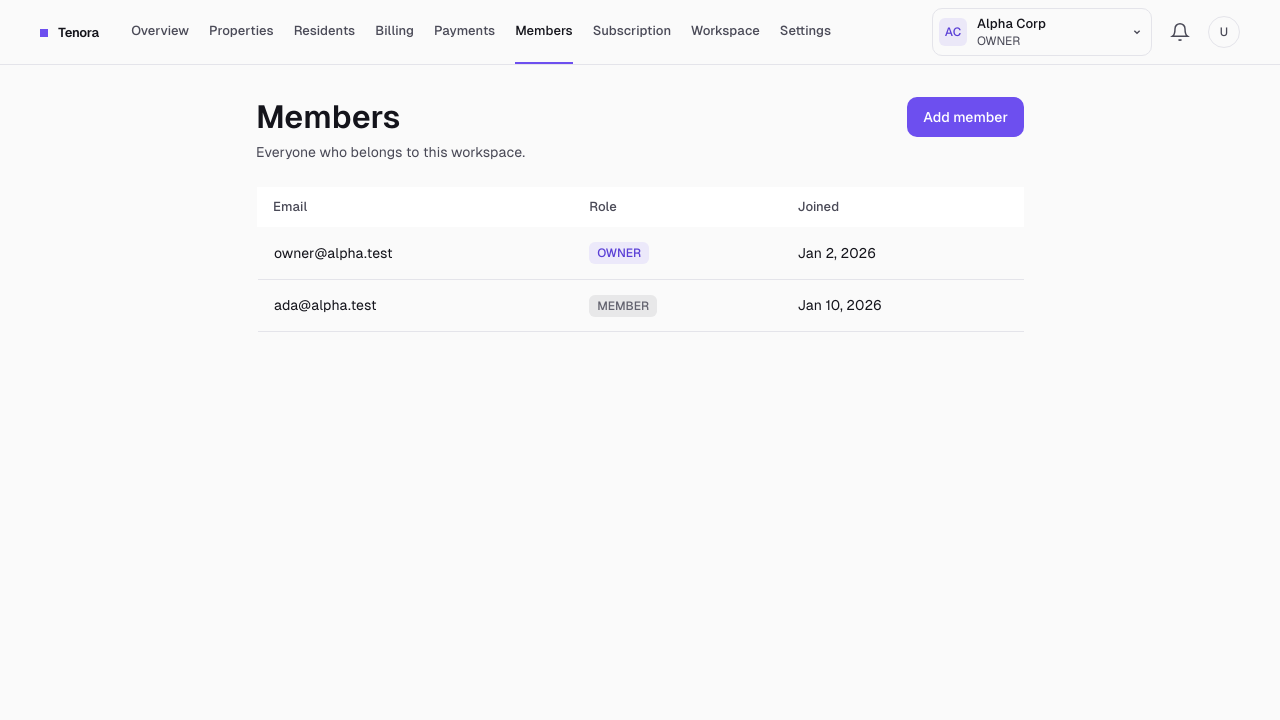
Scenario: MembersPage — add member › shows a duplicate error inline on the email field and keeps the modal open
This screenshot has width=1280, height=720.
Click the button "Add member".
click(966, 117)  # box [907,97,1024,137]
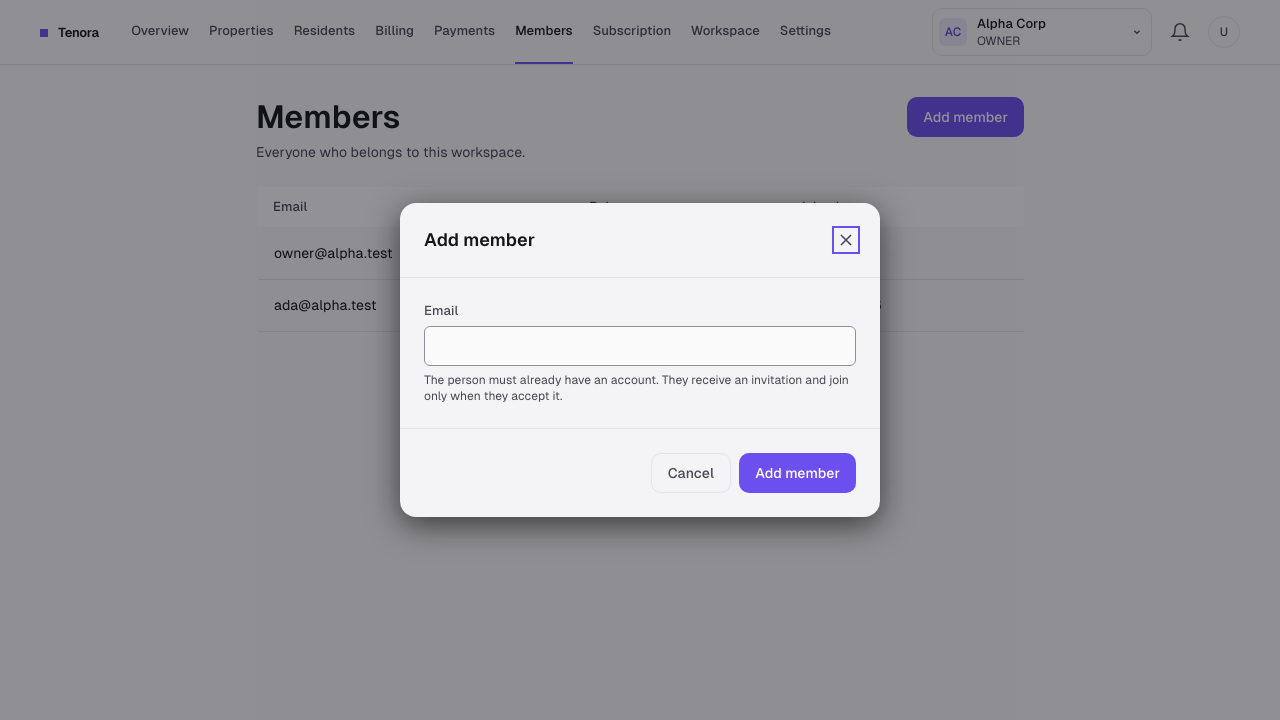
Type "ada@alpha.test" into the field labelled "Email".
click(640, 346); type("ada@alpha.test")  # box [424,326,856,366]
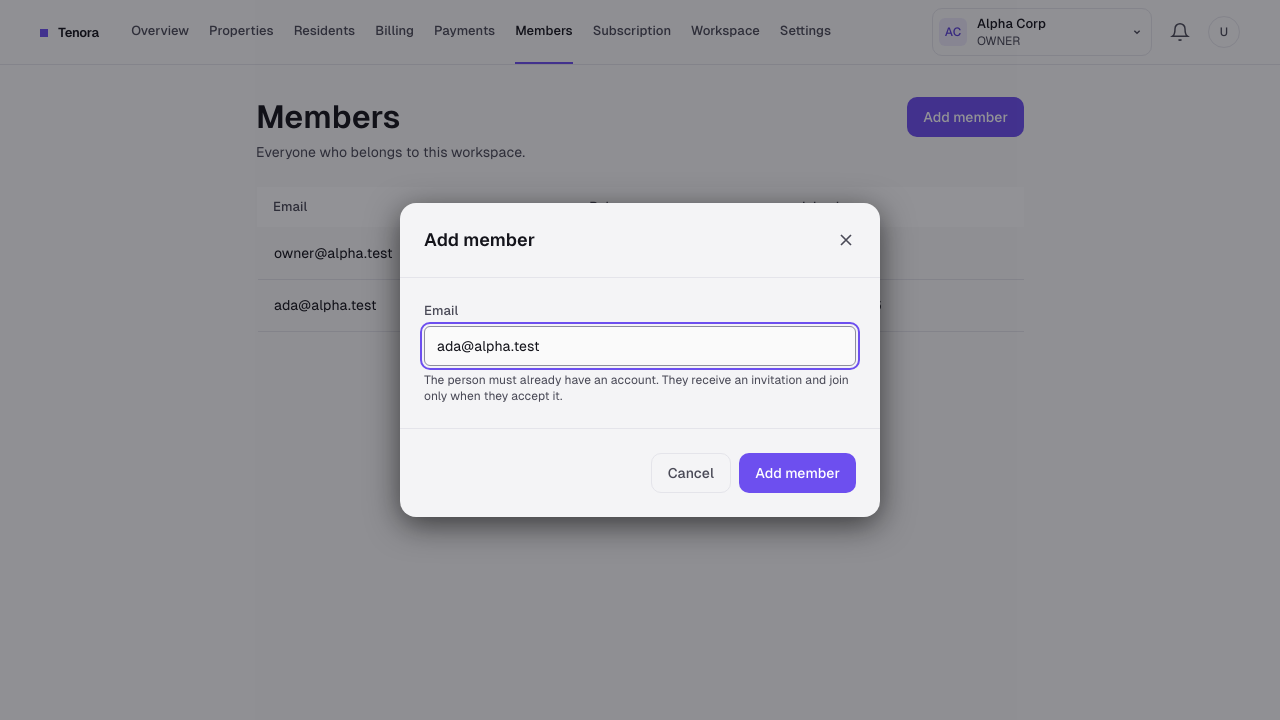
Click the button "Add member".
click(798, 473)  # box [739,453,856,493]
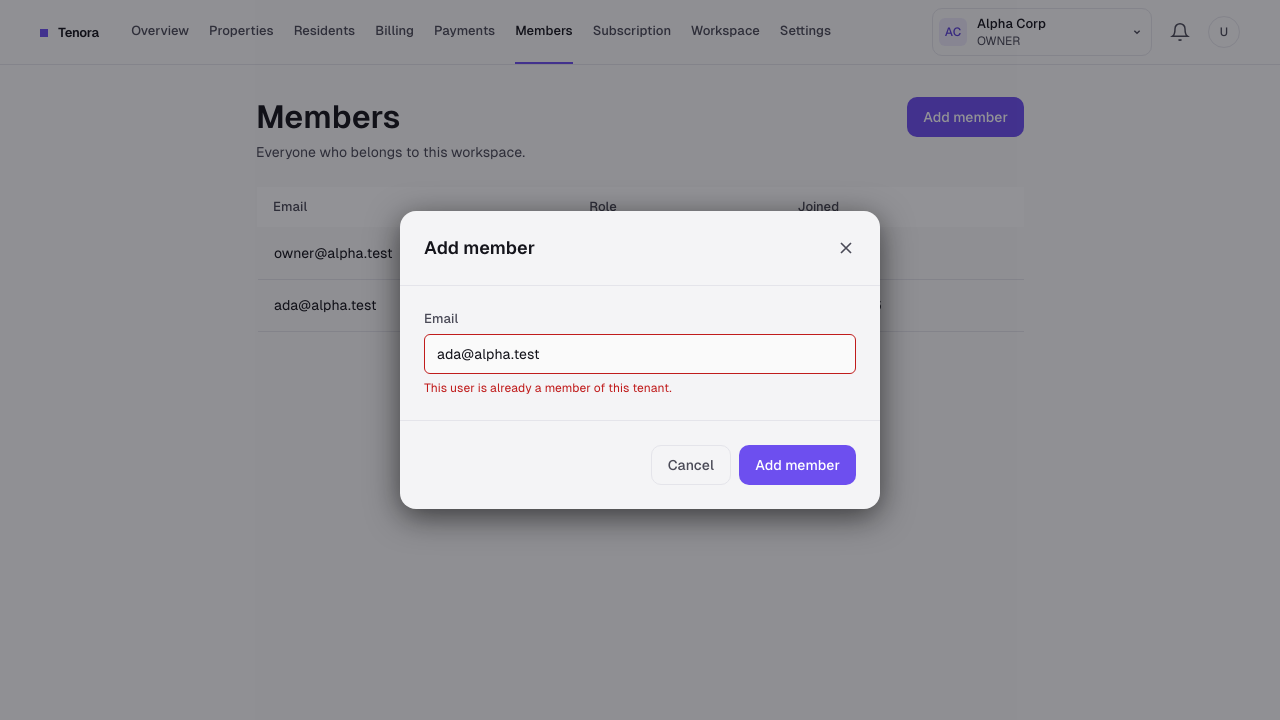
Expected: the dialog is shown, [400,211,880,509]
Expected: the text "This user is already a member of this tenant." is shown, [424,381,672,395]
